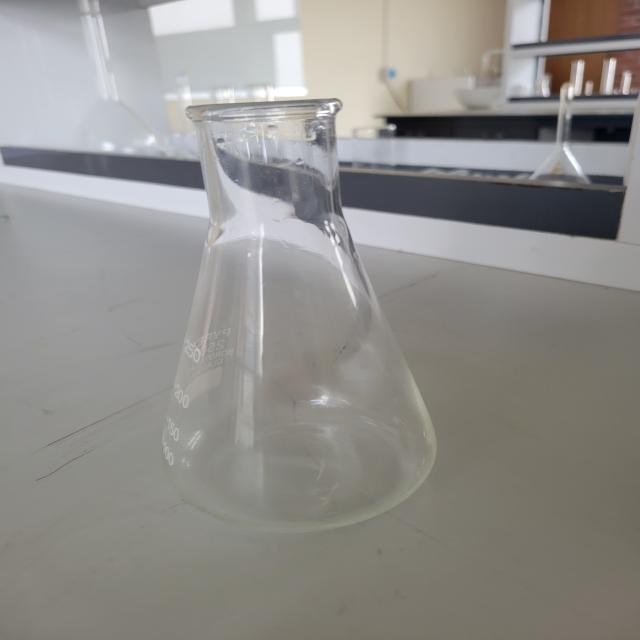Conical_Flask: (144, 70, 455, 541)
